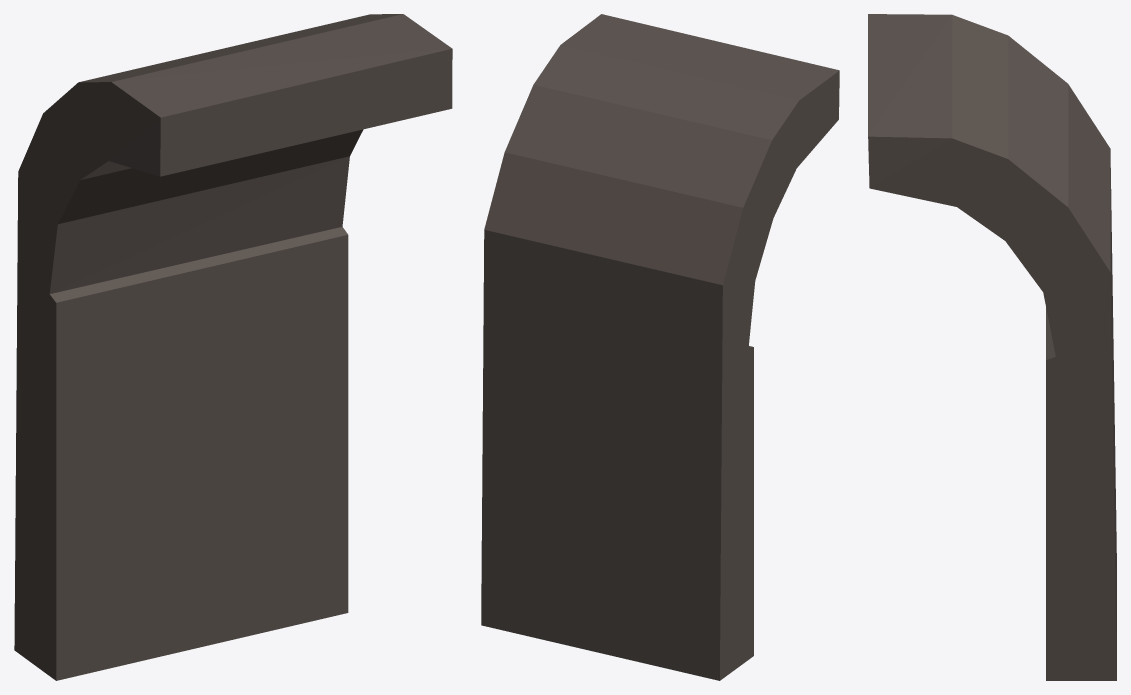
Rendered from MCastle_TunnelWalls_06.FBX.
3 renders of one model, left to right at view 1: azimuth 30°, elevation 25°; view 2: azimuth 150°, elevation 25°; view 3: azimuth 270°, elevation 25°, orthographic. The views are drawn at different scales.
Visible parts, largest first — view 1: MCastle_TunnelWalls_06_LOD0; view 2: MCastle_TunnelWalls_06_LOD0; view 3: MCastle_TunnelWalls_06_LOD0.
Boxes of the visible parts, x1=… form: MCastle_TunnelWalls_06_LOD0: x1=14, y1=14, x2=452, y2=680; MCastle_TunnelWalls_06_LOD0: x1=481, y1=14, x2=839, y2=680; MCastle_TunnelWalls_06_LOD0: x1=868, y1=14, x2=1116, y2=680.
Size of the model in its own units: 2.02 by 4.25 by 1.76.
